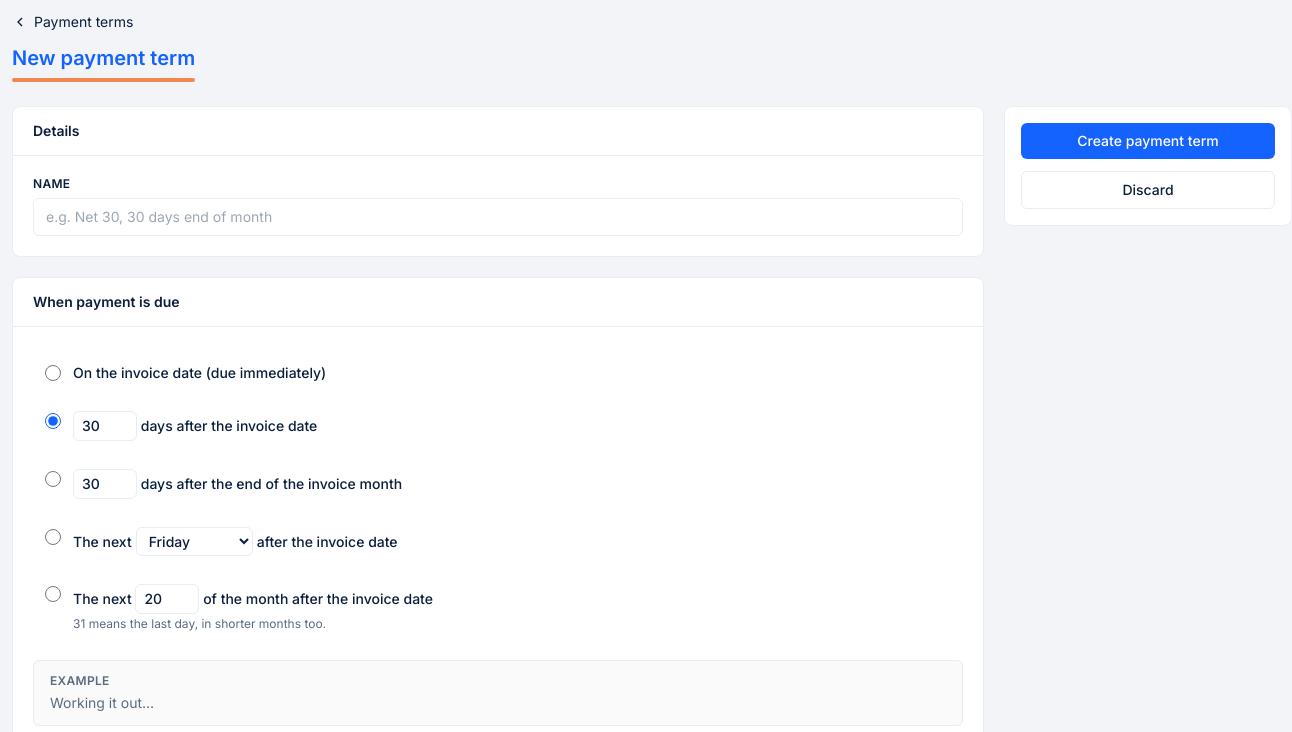
Scenario: PaymentTermForm › refuses a day of the month outside 1–31
The image size is (1292, 732).
Step 1. Type "Bad" into the field labelled "Name" → (498, 217), box [33,198,963,236]
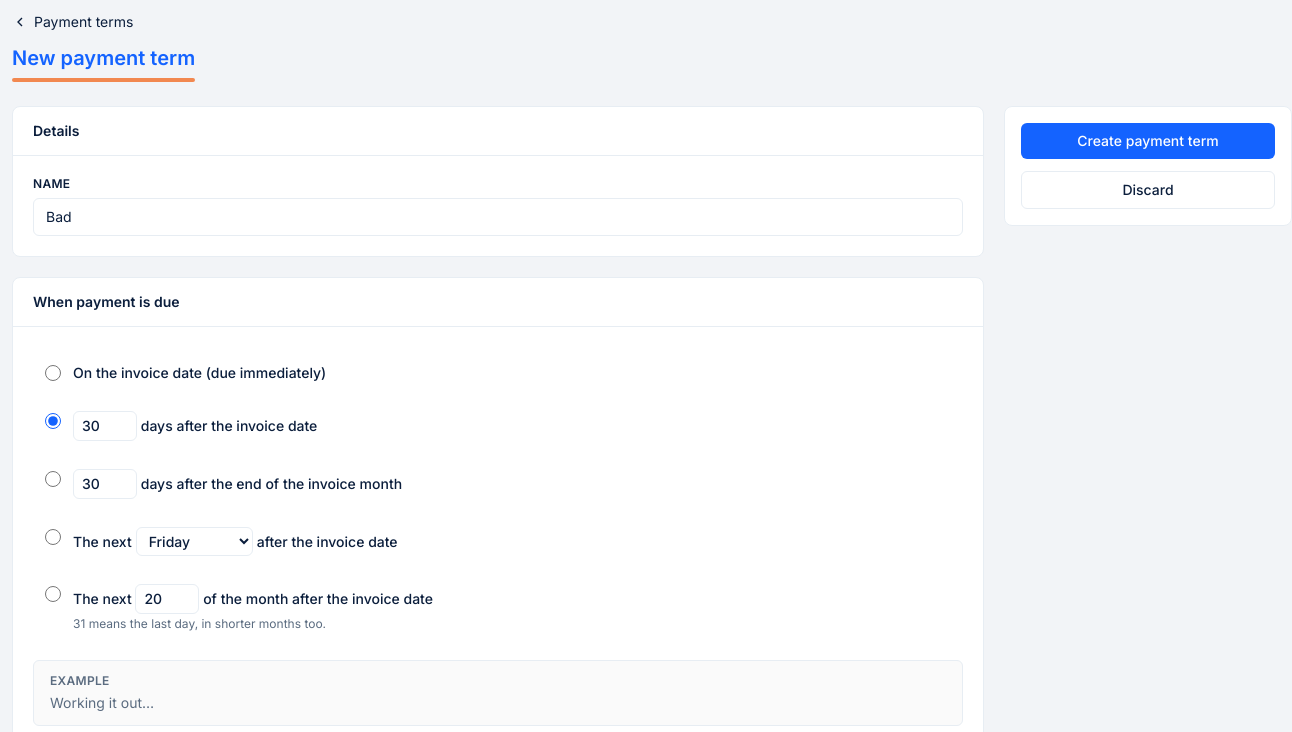
Step 2. Replace the text in the field named "Day of the month" with "40" → (167, 599), box [135,584,199,614]
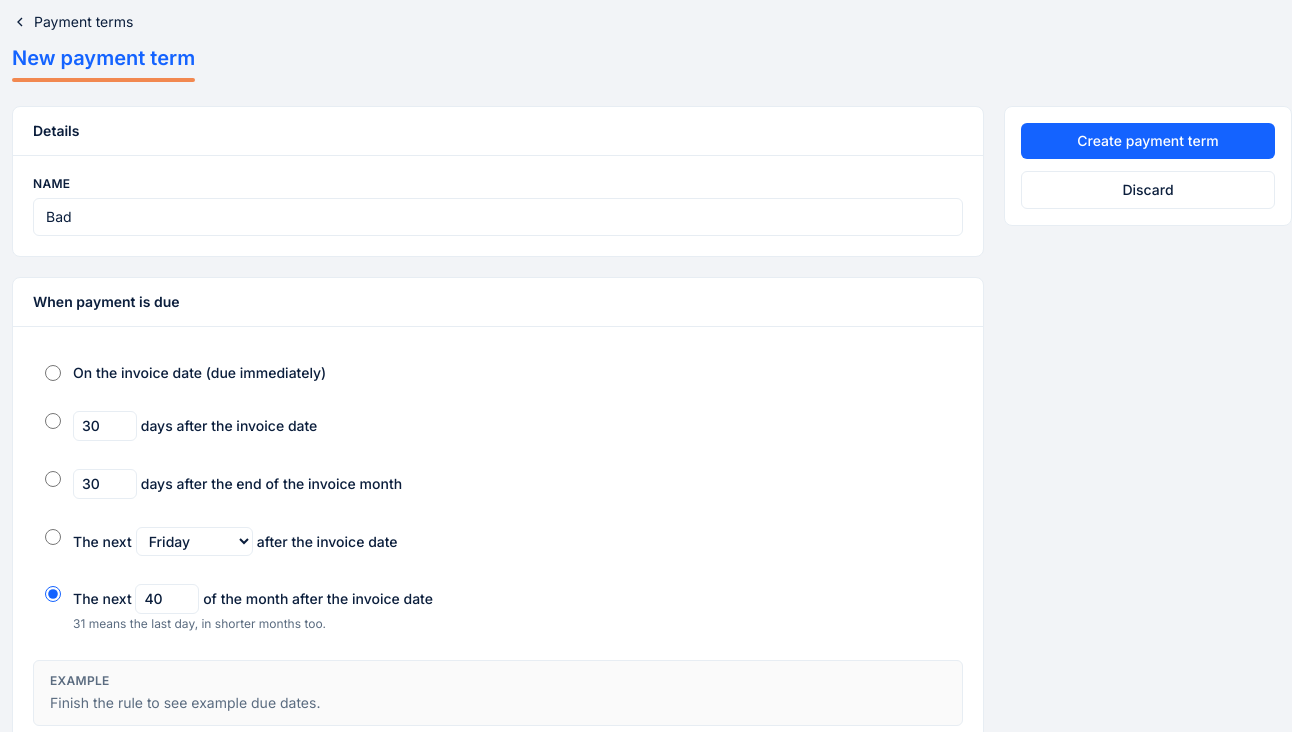
Step 3. Click the button "Create payment term" → (1148, 141), box [1021,123,1275,159]
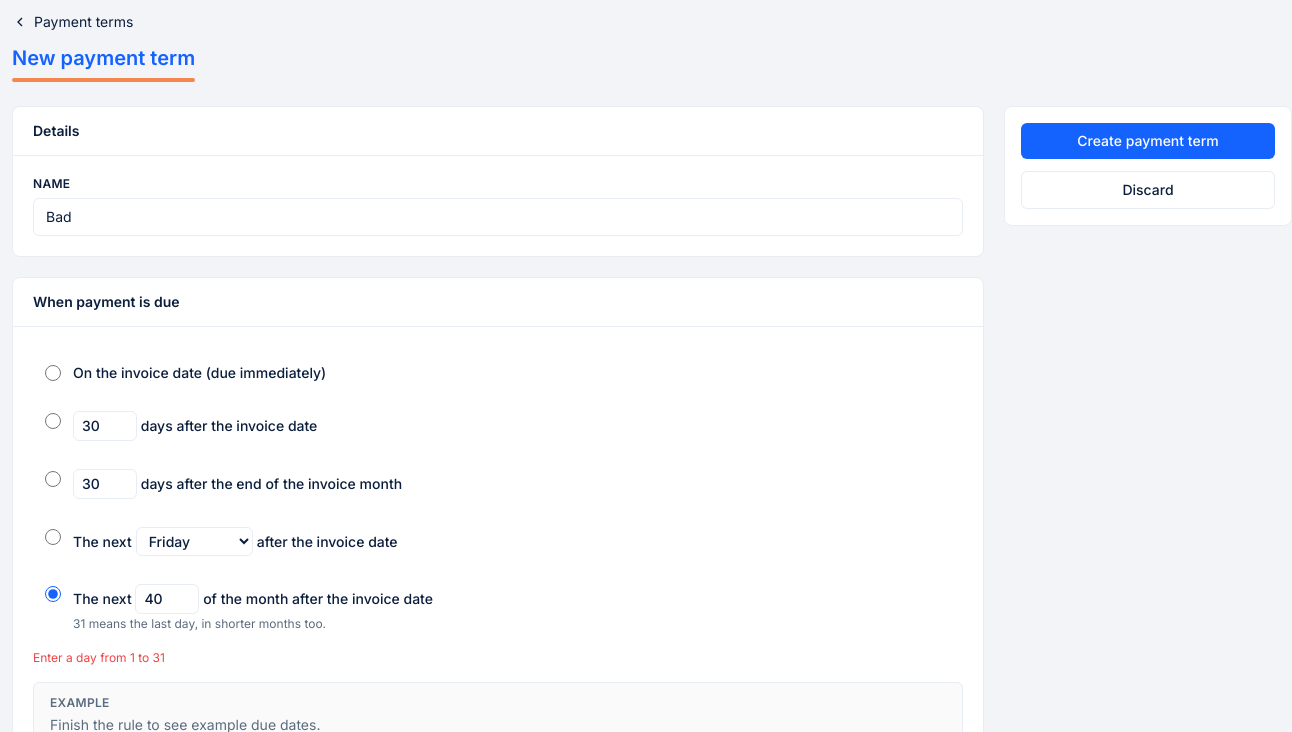
Check: the text "Enter a day from 1 to 31" is shown, box [33,650,165,665]
